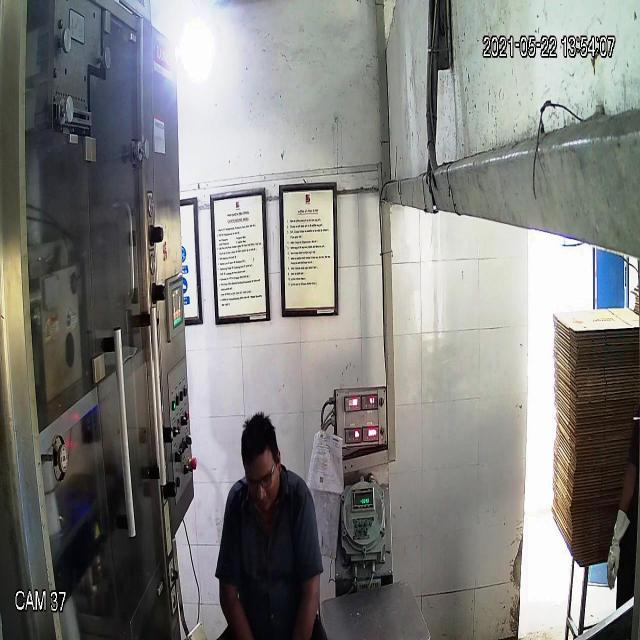glasses: (243, 462, 279, 494)
